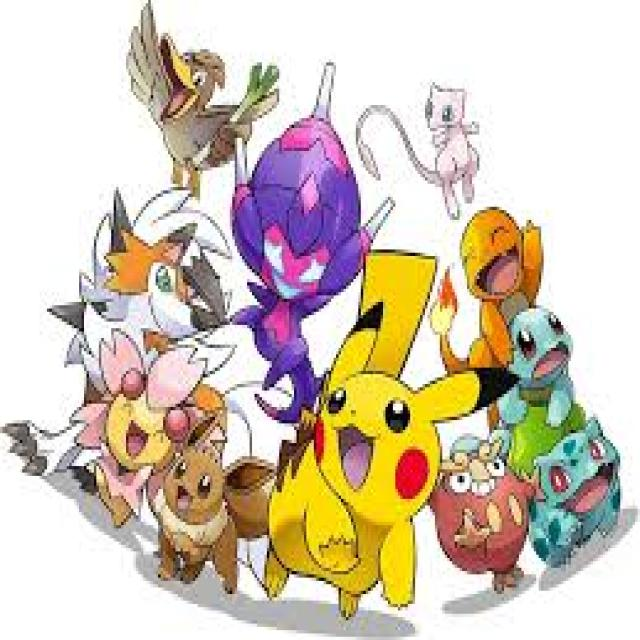Bulbasaur: (526, 408, 622, 547)
Charmander: (452, 204, 534, 336)
Eevee: (155, 441, 243, 580)
Farfetchd: (153, 34, 242, 170)
Mew: (420, 82, 480, 203)
Pikachu: (271, 375, 441, 590)
